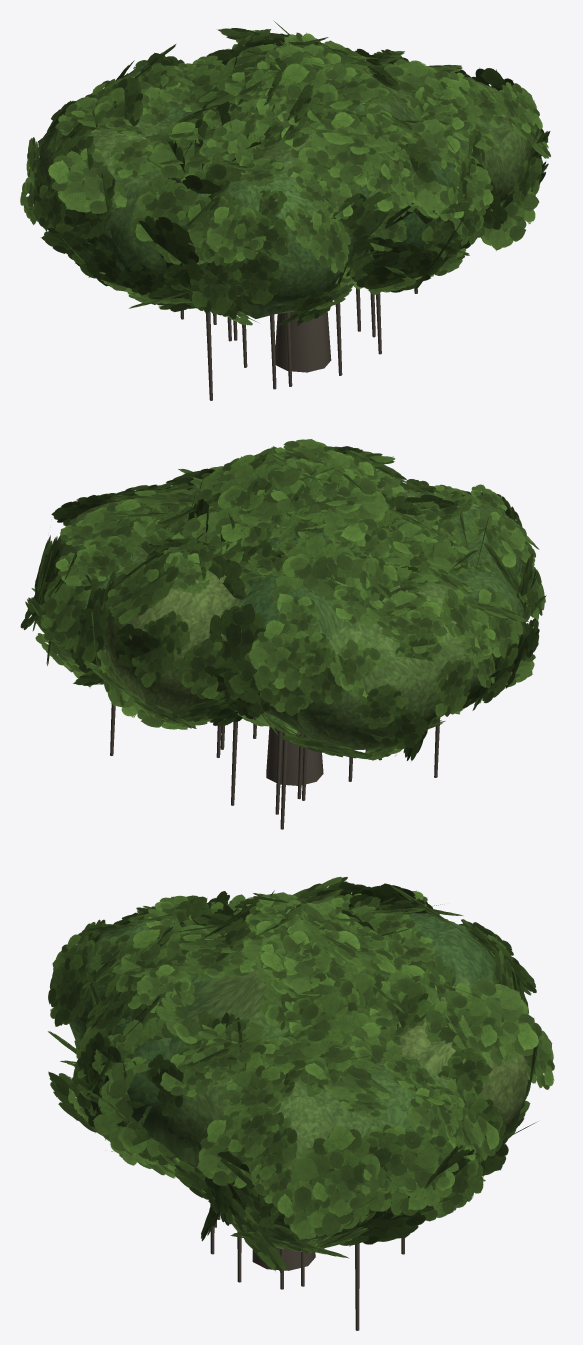
The model's file is urban-vegetation.glb.
The picture shows the model from 3 angles, top to bottom: view 1: azimuth 30°, elevation 25°; view 2: azimuth 150°, elevation 25°; view 3: azimuth 270°, elevation 25°; orthographic projection. The views are drawn at different scales.
Visible parts, largest first — view 1: banyan leafcards, banyan leafcards.001, camphor leafcards.001, camphor leafcards, banyan leaves.001, banyan branches.001, banyan leaves.002, banyan leaves.003; view 2: banyan leafcards, banyan leafcards.001, banyan leaves.001, camphor leafcards.001, camphor leafcards, banyan leaves.002, banyan leaves.003, banyan branches.001; view 3: banyan leafcards, banyan leafcards.001, camphor leafcards.001, banyan leaves.001, camphor leafcards, banyan leaves.003, banyan leaves.002, banyan branches.001.
Part boxes in pixels (x1,y1,x2,y2): banyan leafcards: [20, 20, 550, 325]; banyan leafcards.001: [41, 28, 550, 322]; camphor leafcards.001: [147, 40, 507, 292]; camphor leafcards: [158, 40, 487, 294]; banyan leaves.001: [37, 63, 531, 310]; banyan branches.001: [180, 287, 417, 400]; banyan leaves.002: [35, 81, 531, 305]; banyan leaves.003: [38, 38, 522, 318]; banyan leafcards: [20, 446, 545, 760]; banyan leafcards.001: [31, 439, 546, 760]; banyan leaves.001: [46, 487, 524, 749]; camphor leafcards.001: [133, 451, 488, 728]; camphor leafcards: [112, 453, 471, 726]; banyan leaves.002: [47, 489, 523, 748]; banyan leaves.003: [56, 494, 529, 741]; banyan branches.001: [110, 703, 440, 829]; banyan leafcards: [48, 882, 554, 1254]; banyan leafcards.001: [48, 877, 539, 1272]; camphor leafcards.001: [48, 895, 455, 1178]; banyan leaves.001: [71, 900, 527, 1239]; camphor leafcards: [68, 890, 448, 1165]; banyan leaves.003: [69, 914, 527, 1242]; banyan leaves.002: [66, 895, 526, 1239]; banyan branches.001: [210, 1203, 430, 1330].
Bounding box in the file's own units: 4.13 × 2.49 × 3.41.
3 materials, 2 textured.
